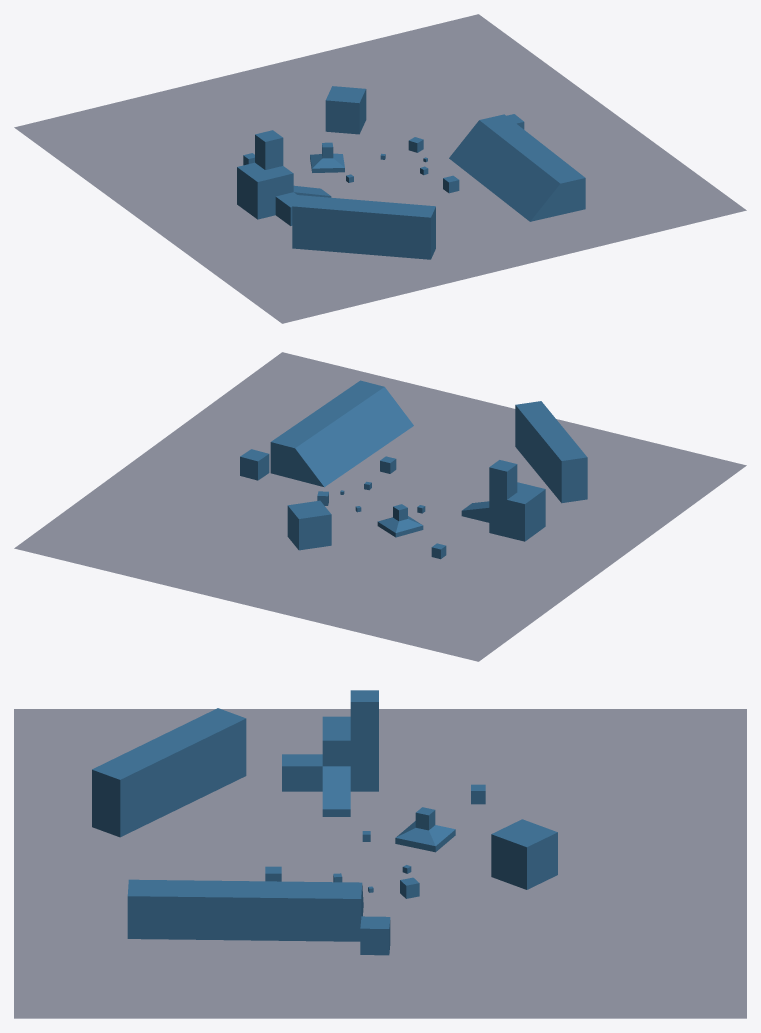
File: Playground_01.glb
The picture shows the model from 3 angles, top to bottom: view 1: azimuth 30°, elevation 25°; view 2: azimuth 150°, elevation 25°; view 3: azimuth 270°, elevation 25°; orthographic projection. The views are drawn at different scales.
Visible parts, largest first — view 1: Level-col; view 2: Level-col; view 3: Level-col.
Part boxes in pixels (box(x1,y1,x2,y2)): Level-col: box(14, 14, 746, 323); Level-col: box(14, 352, 746, 661); Level-col: box(14, 690, 746, 1018).
Size of the model in its own units: 100 by 13.5 by 100.
